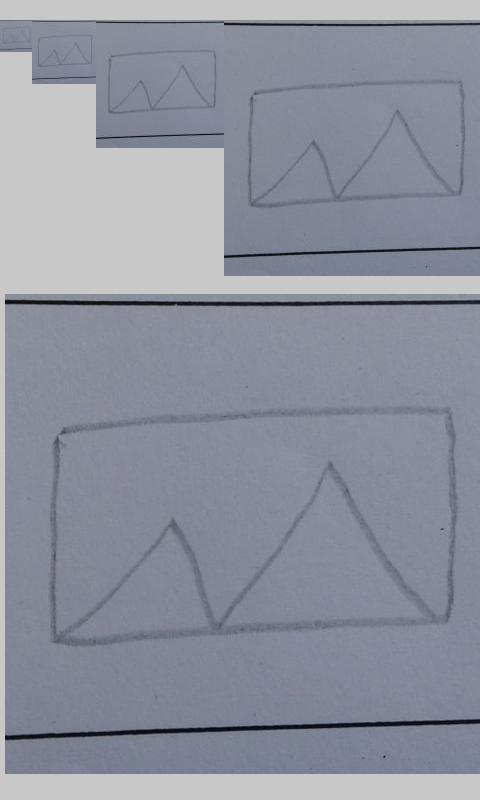image_view: (46, 403, 459, 646), (244, 75, 468, 212), (107, 48, 218, 114), (37, 34, 93, 68), (2, 26, 31, 45)
